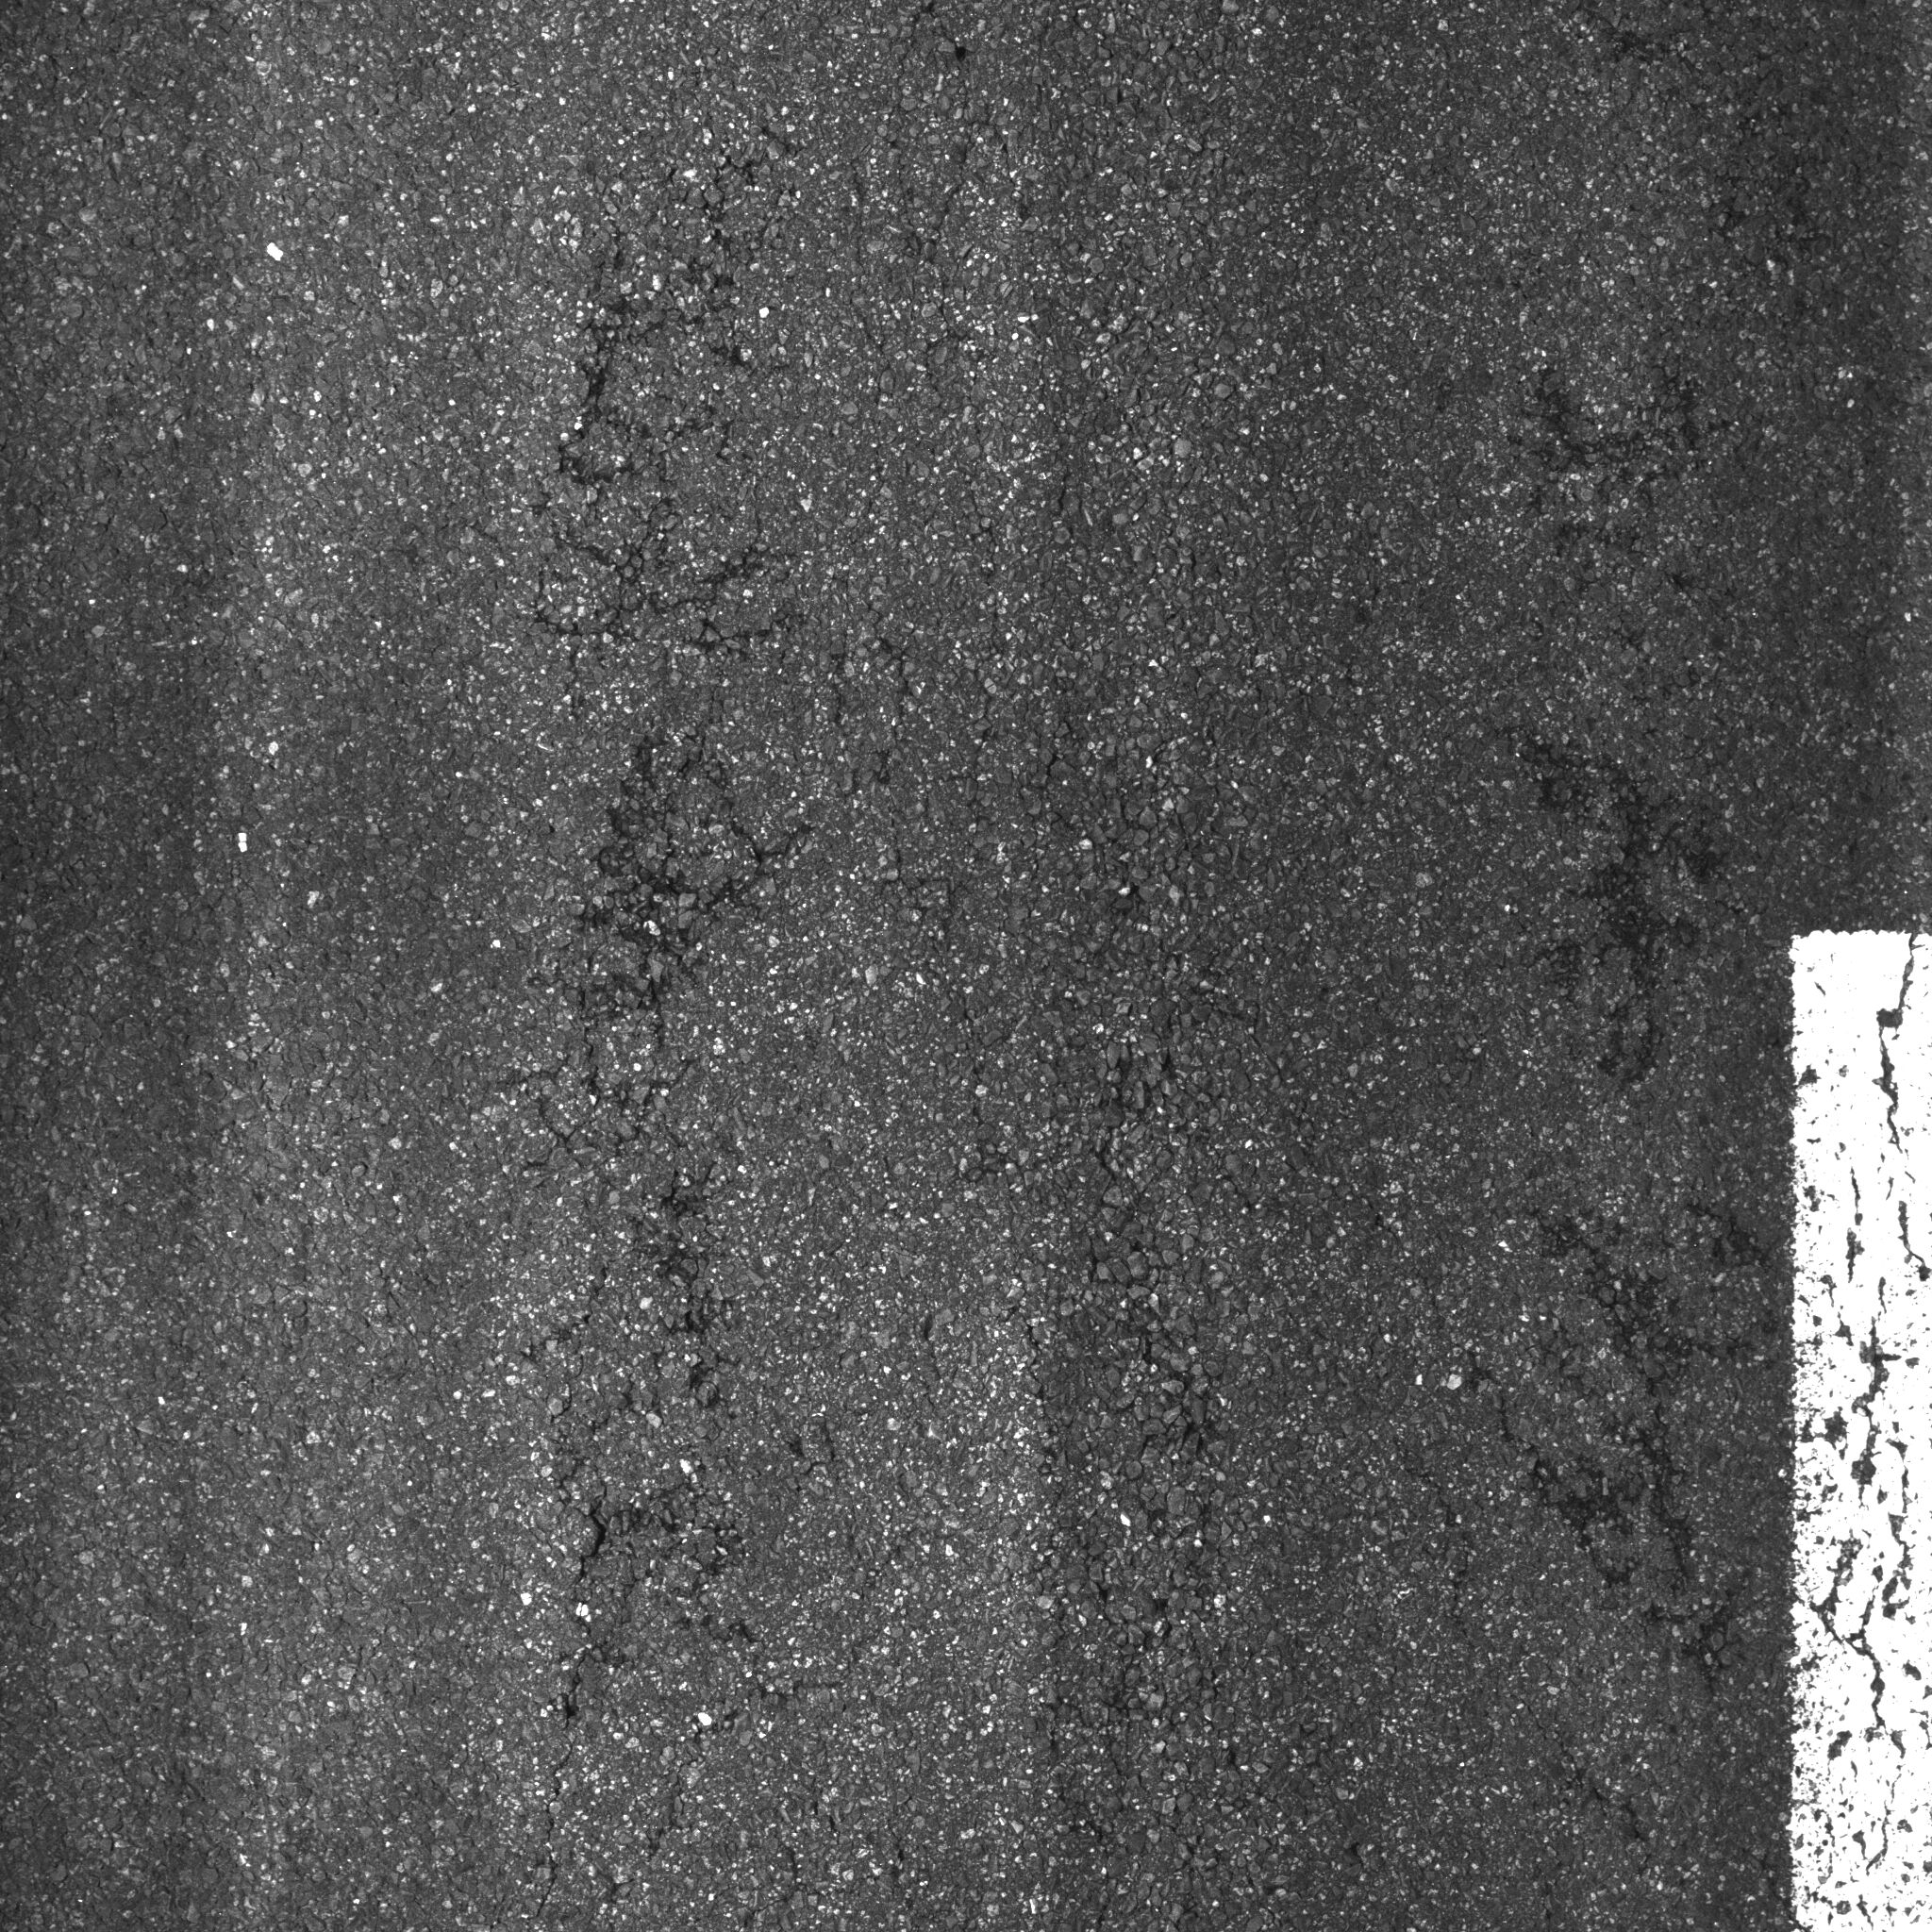alligator: (416, 196, 1240, 1707), (1444, 713, 1932, 1900)
